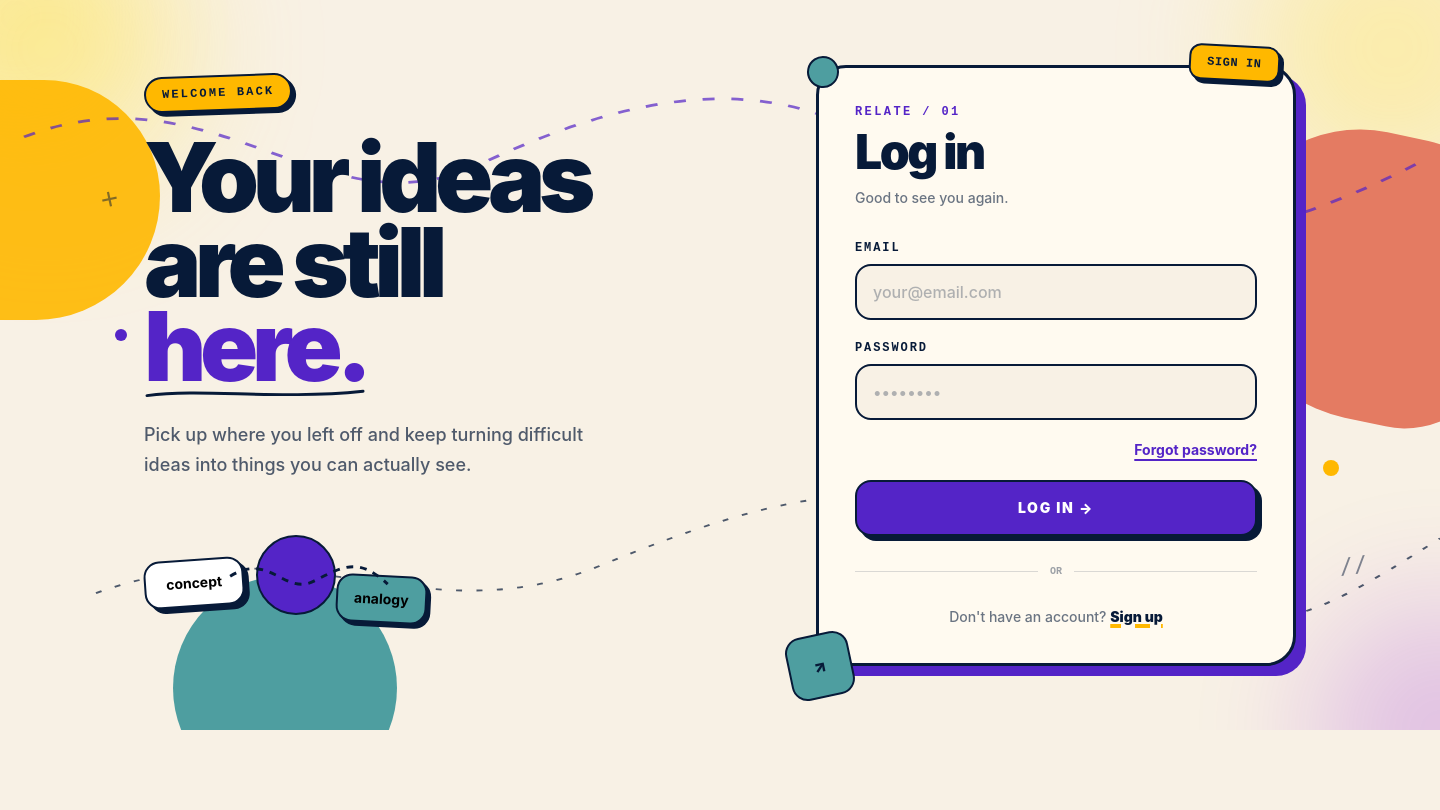
Test: LoginPage › inline validation - empty fields › should display inline error when email field is empty at submission
This screenshot has width=1440, height=810.
Note: Leave email empty, fill password, submit
Step 1. Type "password123" into the password field labelled "Password" → (1056, 392), box [855,364,1257,420]
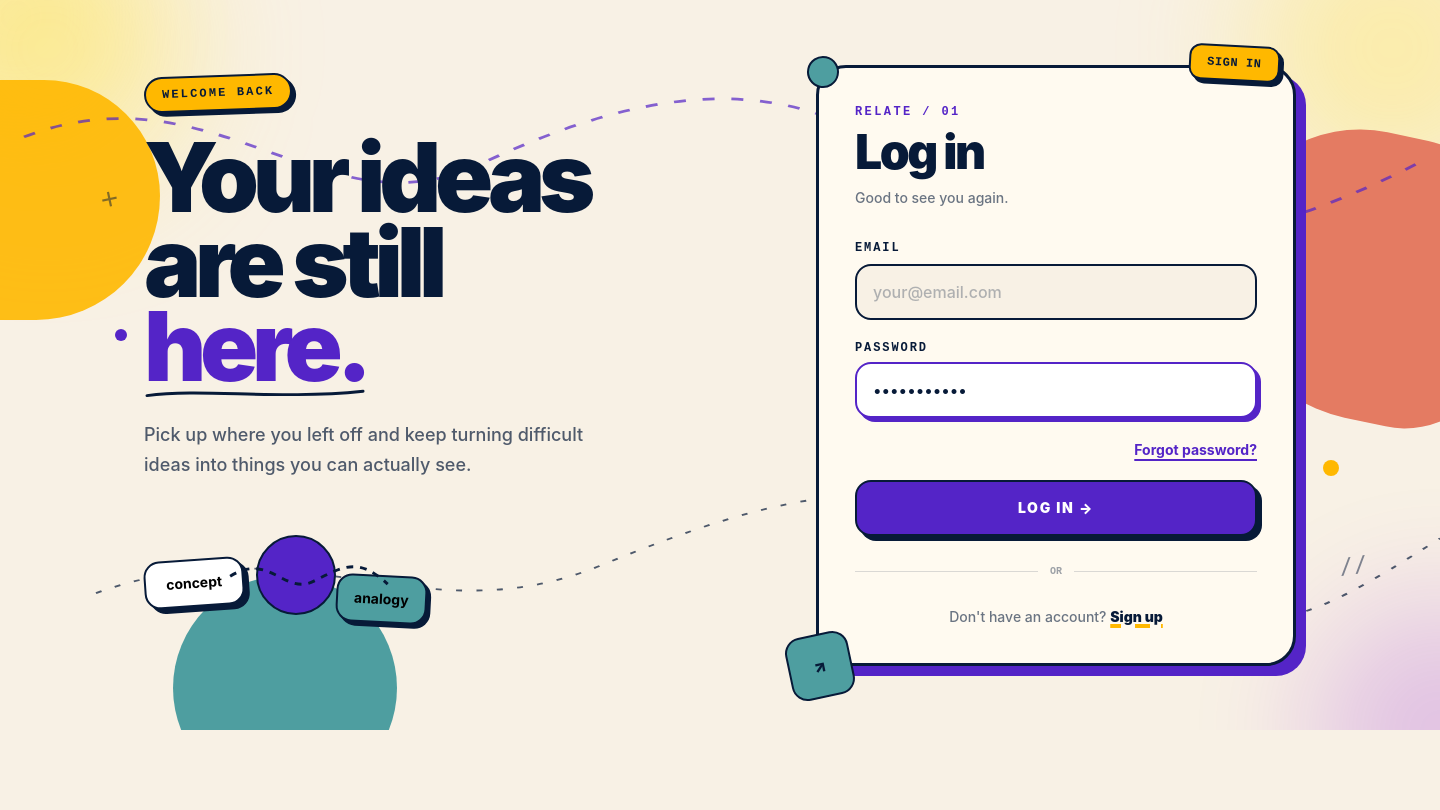
Step 2. Click the button "Log in →" → (1056, 508), box [855,480,1257,536]
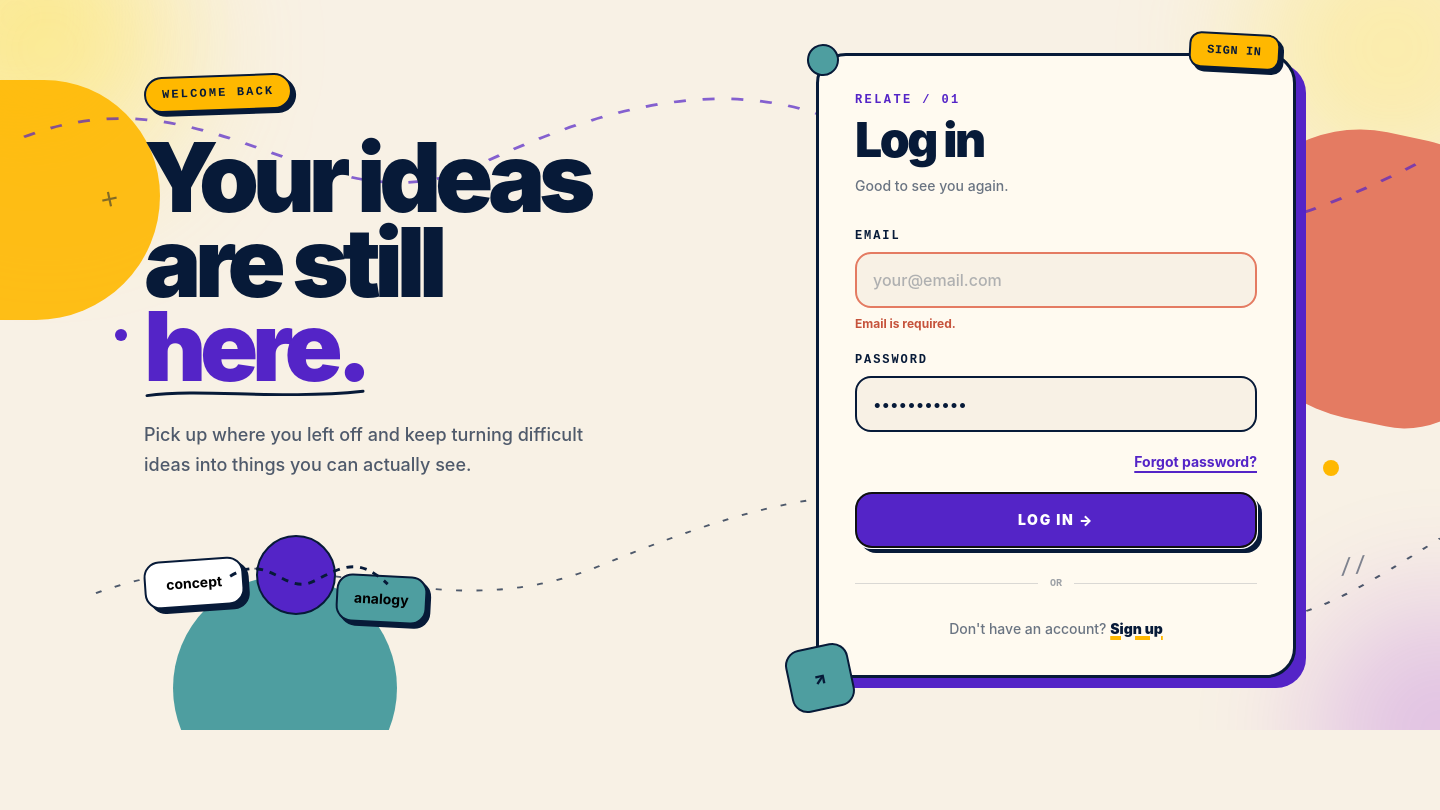
Expected: the text "Email is required." is shown, [855,316,956,330]
